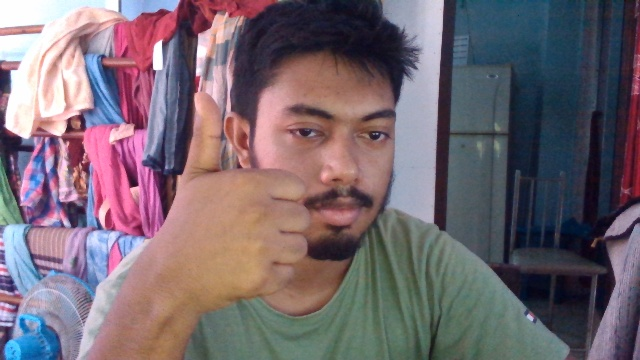yes: (155, 91, 311, 308)
